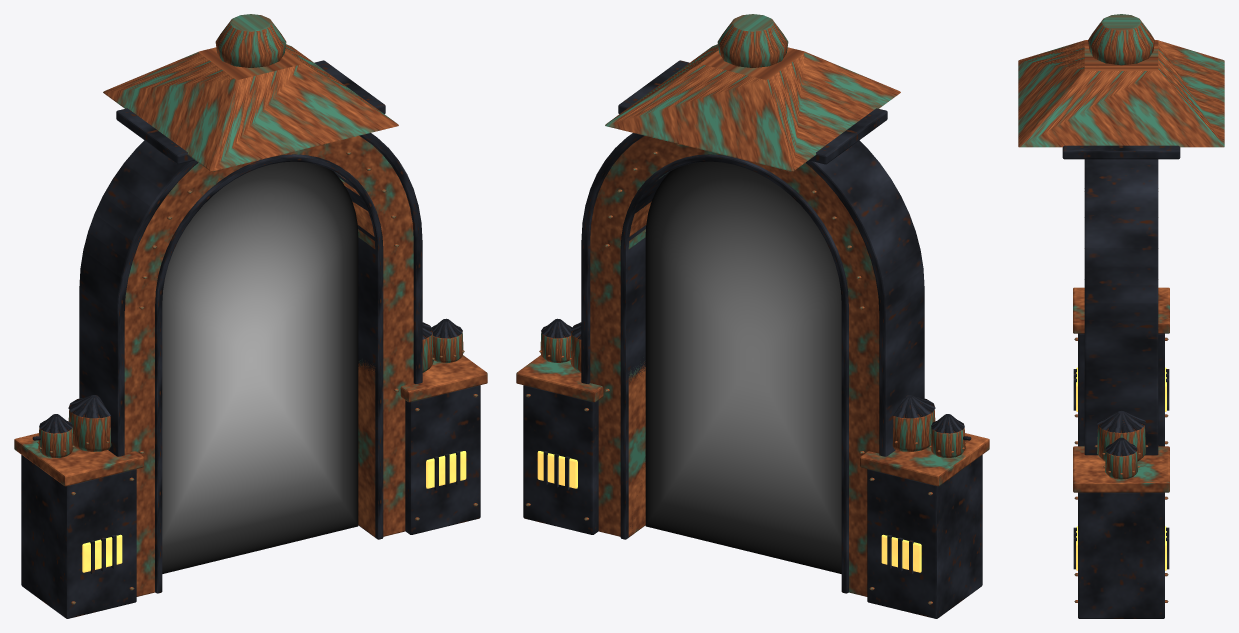
File: enchanted_kitchen.glb
3 views of the same model, side by side, from view 1: azimuth 30°, elevation 25°; view 2: azimuth 150°, elevation 25°; view 3: azimuth 270°, elevation 25° (orthographic). The views are drawn at different scales.
Parts seen in each view (by area): view 1: Frame, Veil, Frame_Detail; view 2: Frame, Veil, Frame_Detail; view 3: Frame, Frame_Detail.
Boxes of the visible parts, bbox=[...] form: Frame: bbox=[14, 14, 487, 618]; Veil: bbox=[162, 161, 358, 573]; Frame_Detail: bbox=[37, 143, 478, 604]; Frame: bbox=[516, 14, 989, 618]; Veil: bbox=[645, 161, 841, 573]; Frame_Detail: bbox=[525, 143, 966, 604]; Frame: bbox=[1018, 14, 1224, 618]; Frame_Detail: bbox=[1073, 337, 1169, 602].
Size of the model in its own units: 2.8 by 3.3 by 1.23.
Materials: 4 (3 with a texture image).
